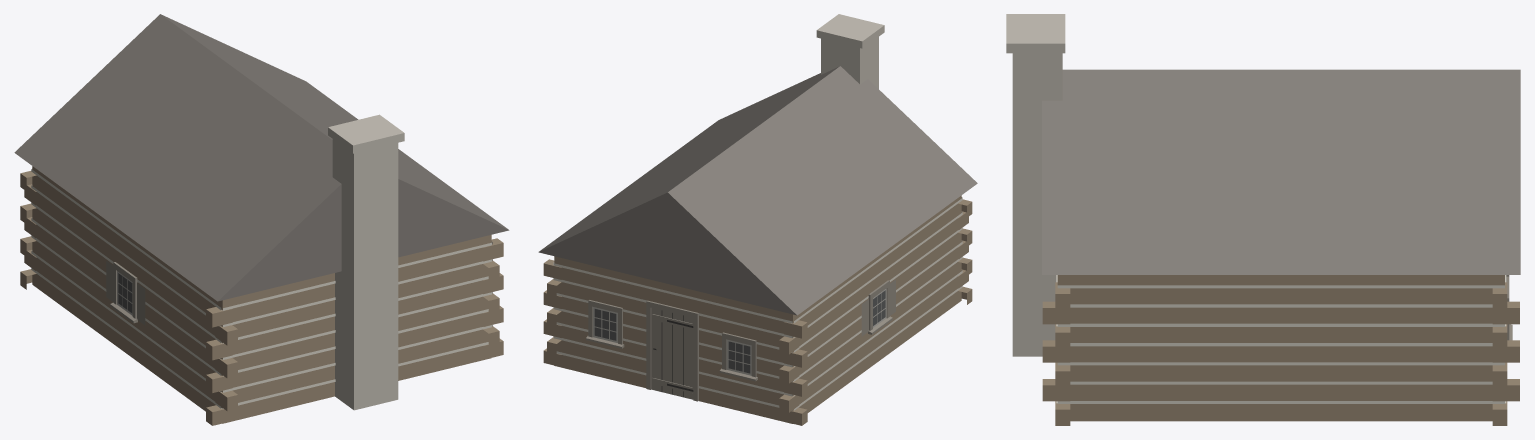
File: recon_1835_north_d1_023__inferred_1835.glb
The picture shows the model from 3 angles, left to right: view 1: azimuth 30°, elevation 25°; view 2: azimuth 150°, elevation 25°; view 3: azimuth 270°, elevation 25°; orthographic projection. The views are drawn at different scales.
Visible parts, largest first — view 1: recon_1835_north_d1_023__inferred_1835; view 2: recon_1835_north_d1_023__inferred_1835; view 3: recon_1835_north_d1_023__inferred_1835.
Part boxes in pixels (x1,y1,x2,y2): recon_1835_north_d1_023__inferred_1835: [14, 14, 509, 425]; recon_1835_north_d1_023__inferred_1835: [538, 14, 977, 425]; recon_1835_north_d1_023__inferred_1835: [1006, 14, 1520, 425].
Bounding box in the file's own units: 6.34 × 5.55 × 8.22.
